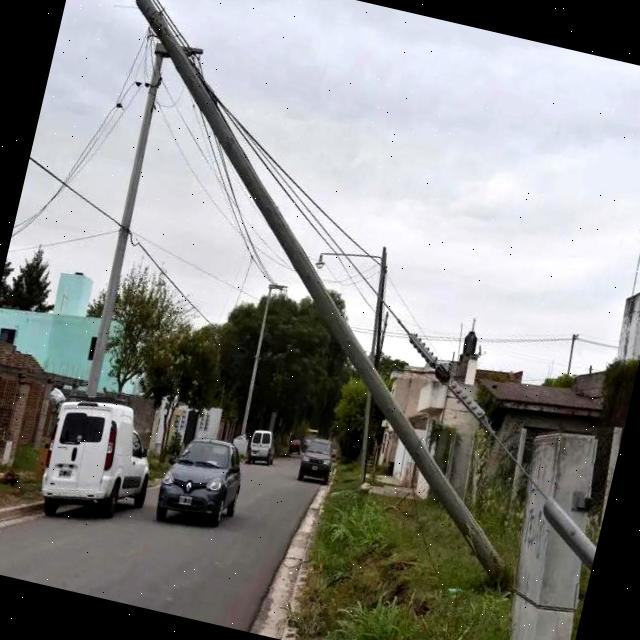Broken Pole: (132, 0, 505, 578)
